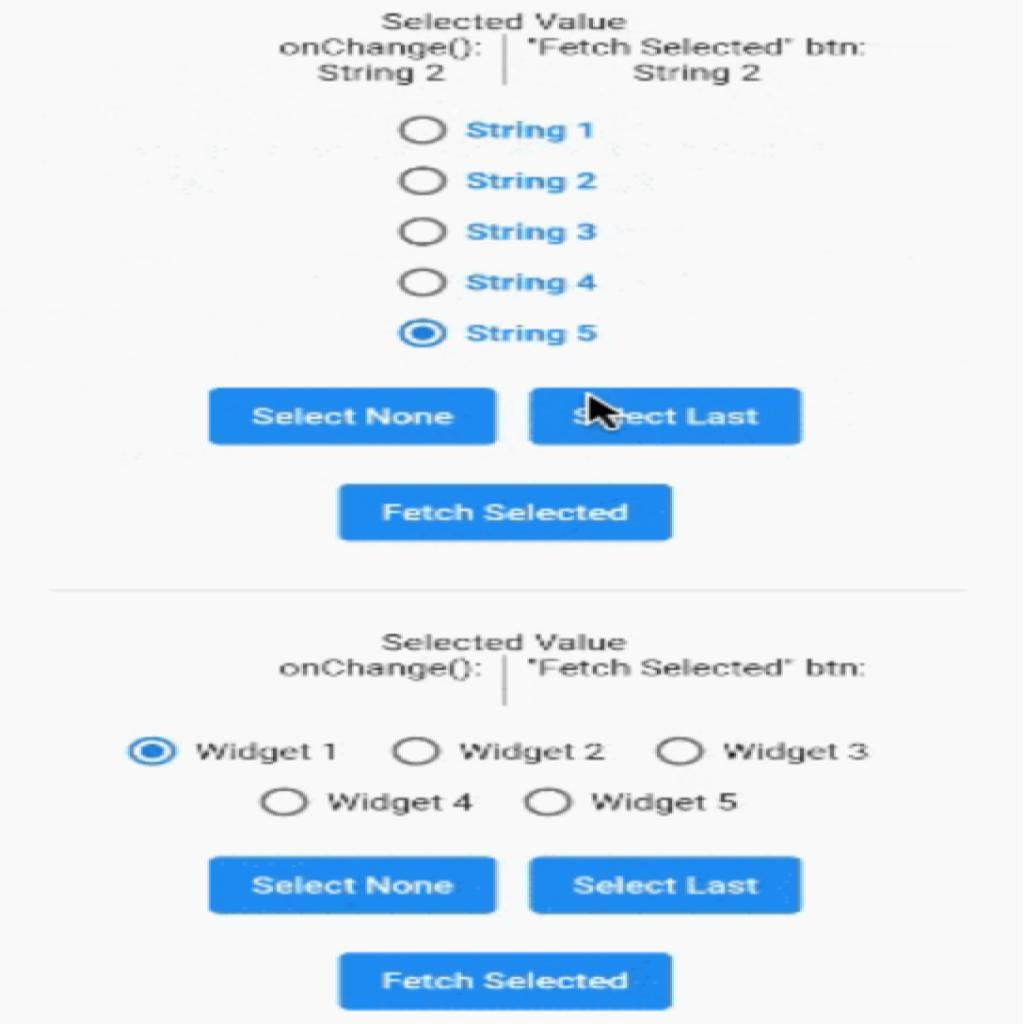button: (337, 483, 672, 543), (340, 955, 674, 1011), (531, 385, 803, 449), (209, 387, 498, 445), (211, 857, 498, 915), (532, 856, 805, 915)
label: (459, 739, 606, 767), (724, 740, 874, 767), (327, 790, 473, 816), (193, 738, 337, 764), (591, 792, 742, 816)
radio: (521, 785, 577, 819), (258, 784, 312, 819), (397, 317, 452, 351), (395, 114, 451, 146), (390, 735, 442, 769), (398, 215, 450, 249), (396, 267, 449, 300), (657, 733, 708, 766), (125, 737, 183, 766), (395, 166, 449, 197)
